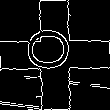O_E: (29, 33, 81, 77)
